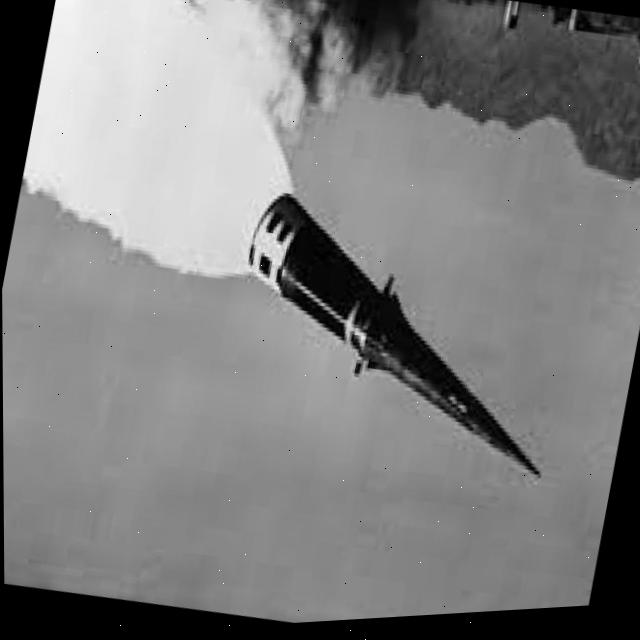missile: (211, 171, 589, 508)
